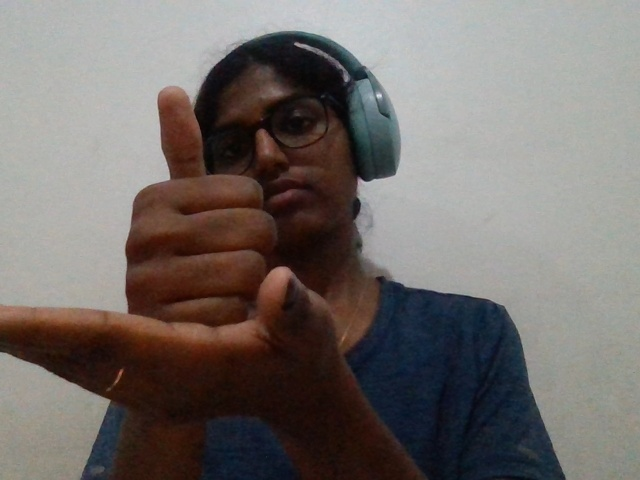Help: (2, 36, 420, 469)
